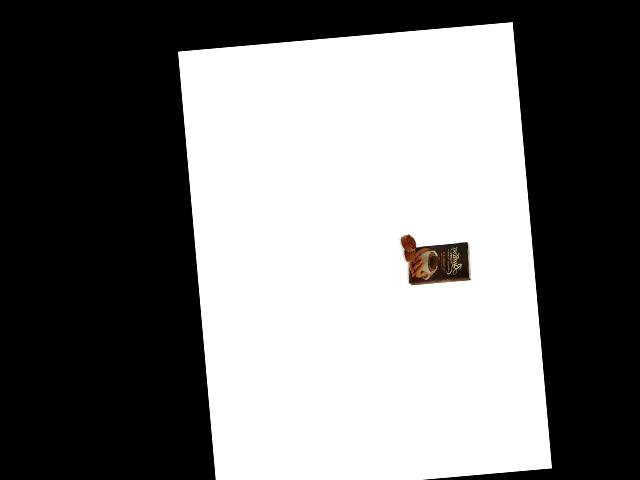chocolate: (403, 236, 474, 288)
